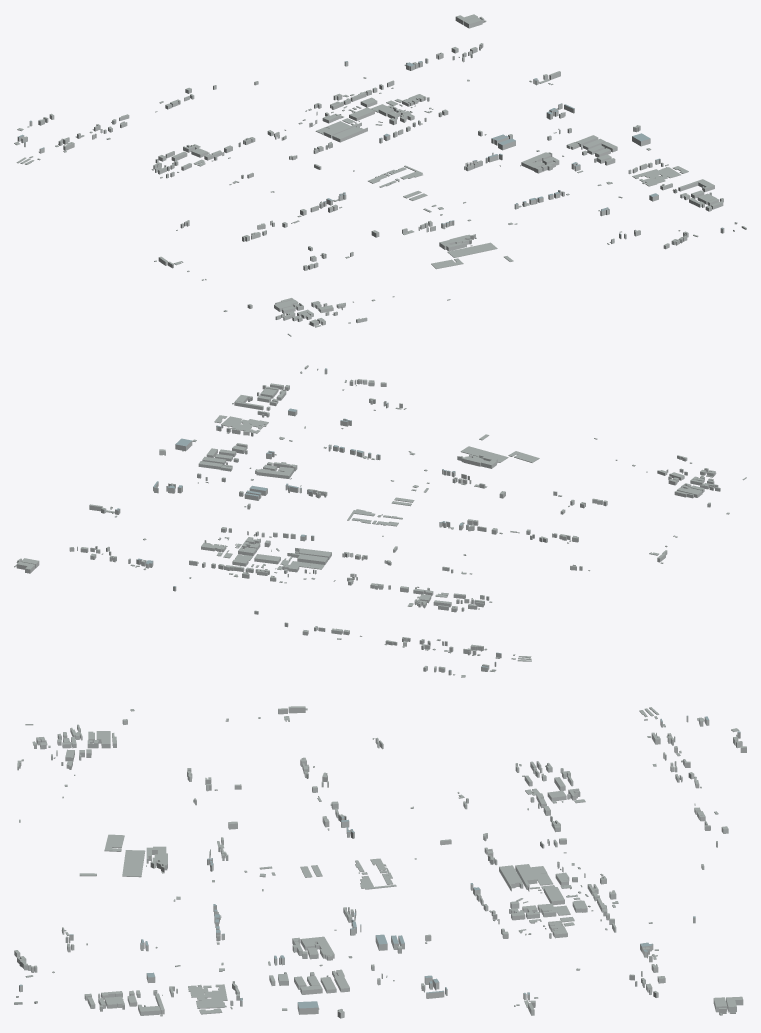
3 views of the same model, one above another, from view 1: azimuth 30°, elevation 25°; view 2: azimuth 150°, elevation 25°; view 3: azimuth 270°, elevation 25° (orthographic). The views are drawn at different scales.
Visible parts, largest first — view 1: 上海全域建筑分块 · mapped building neighborhood; view 2: 上海全域建筑分块 · mapped building neighborhood; view 3: 上海全域建筑分块 · mapped building neighborhood.
Boxes of the visible parts, x1,y1,x2,y2 form: 上海全域建筑分块 · mapped building neighborhood: (14,14,746,336); 上海全域建筑分块 · mapped building neighborhood: (14,365,746,677); 上海全域建筑分块 · mapped building neighborhood: (14,706,746,1018).
Bounding box in the file's own units: 2117 × 22.65 × 2110.
